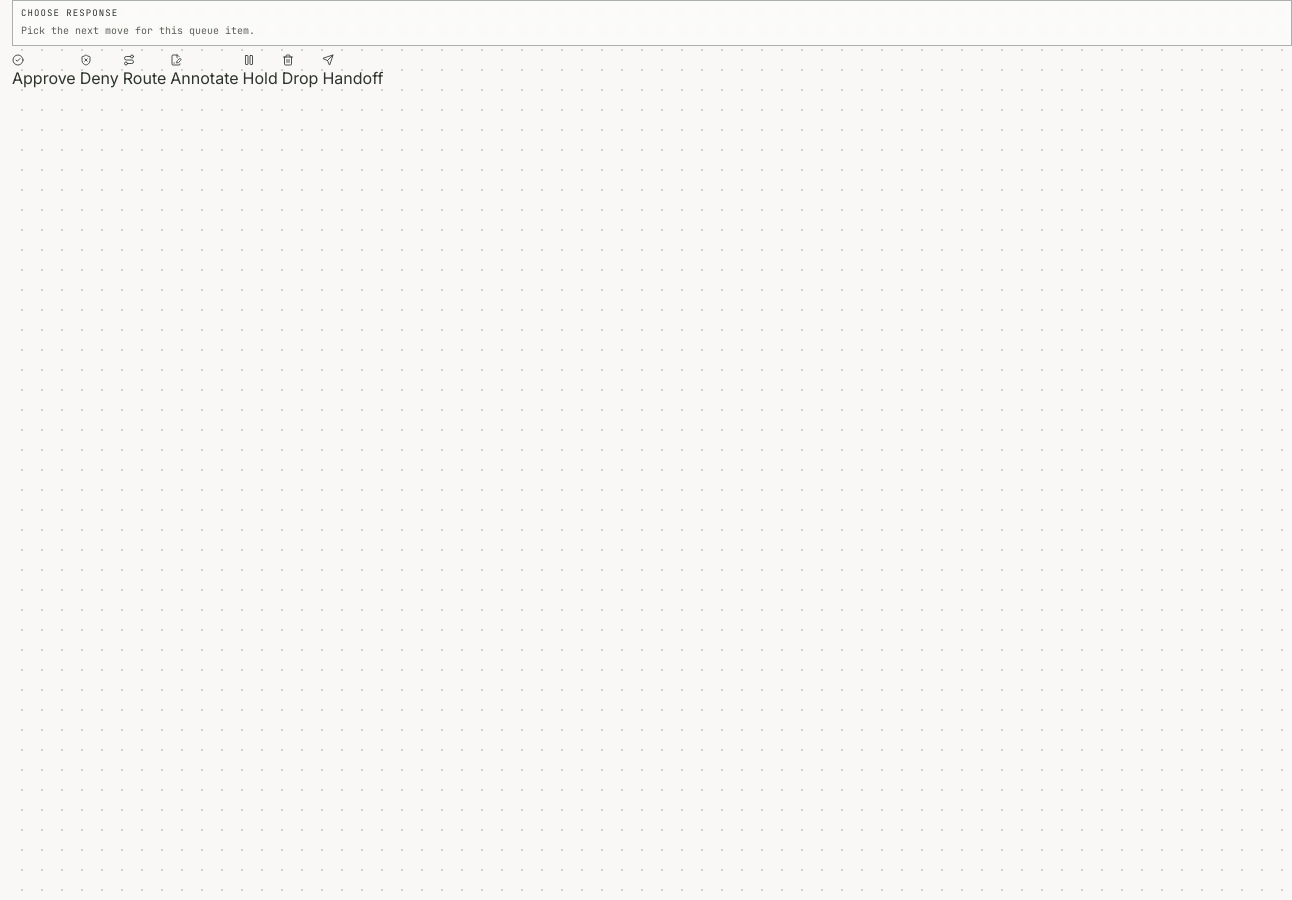
Test: VerbActions — optimistic outcome (demo-bug fix #1) › resets selection after a successful mutation
The image size is (1292, 900).
Click the button with test id "mc-verb-approve" at (44, 72), box [12,54,76,90]
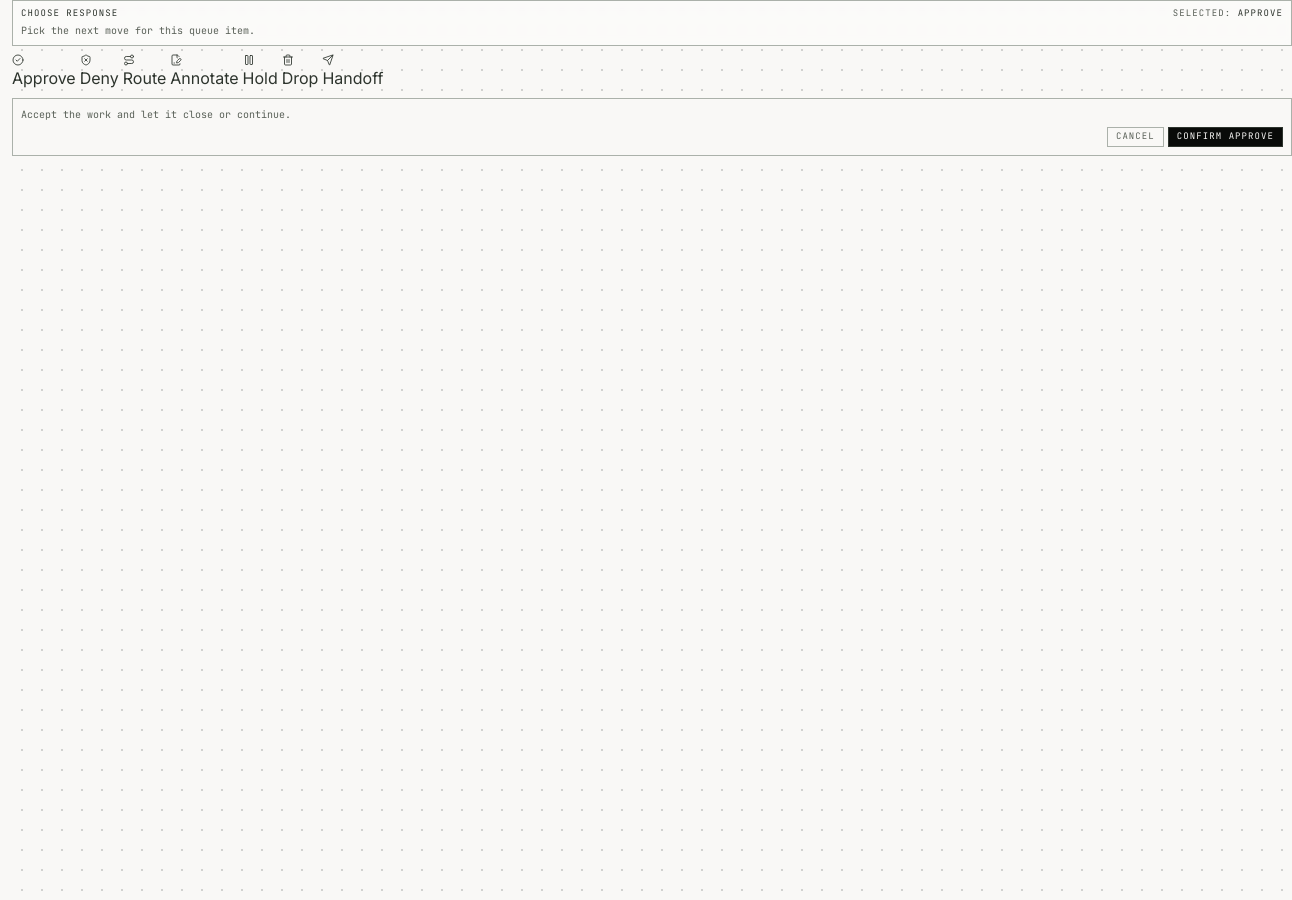
Click the button with test id "mc-verb-submit" at (1225, 137), box [1168,127,1283,146]
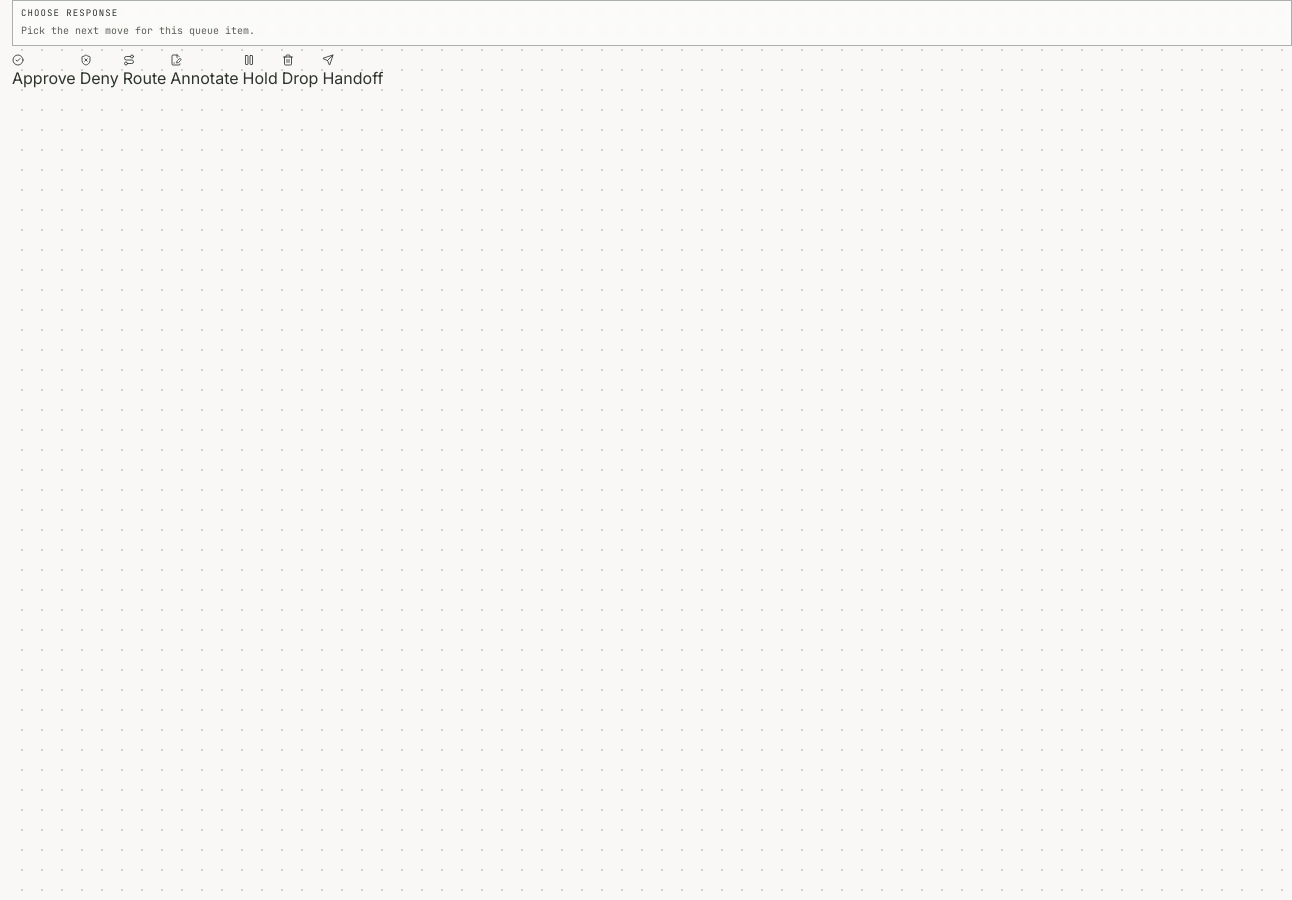
Expected: the button with test id "mc-verb-submit" is gone
